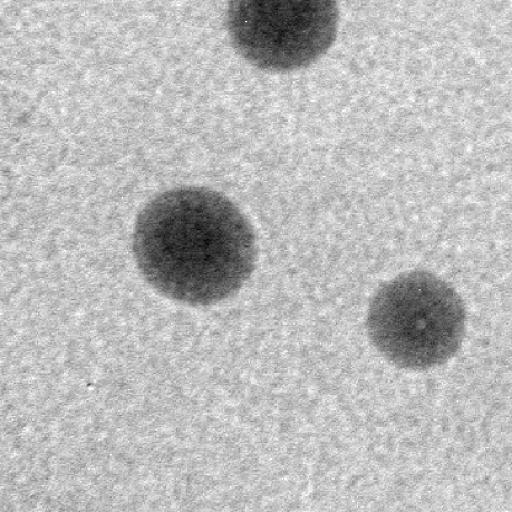Nanoparticles: (130, 183, 258, 312), (365, 269, 467, 370), (225, 0, 340, 74)
